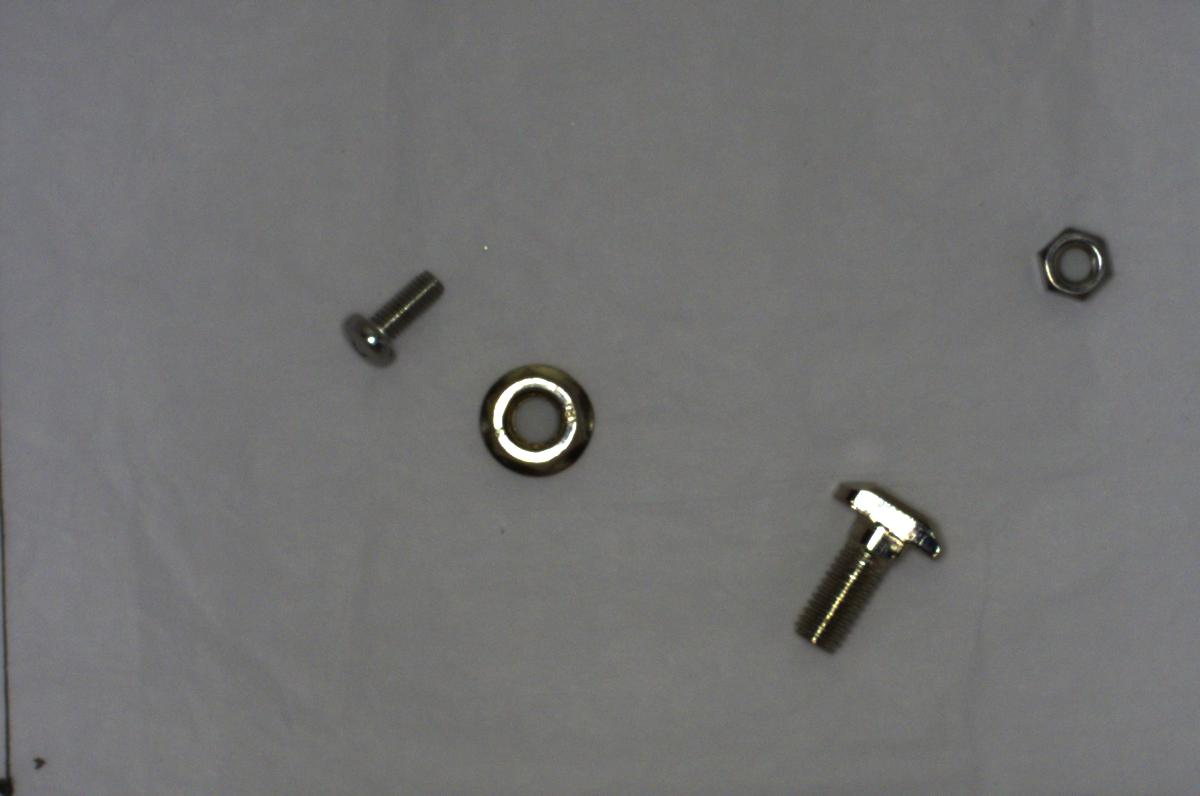Flange nut: (475, 355, 602, 486)
Hexagon nut: (1025, 218, 1127, 307)
Round head screw: (332, 258, 450, 368)
T-shaped screw: (778, 468, 959, 654)
